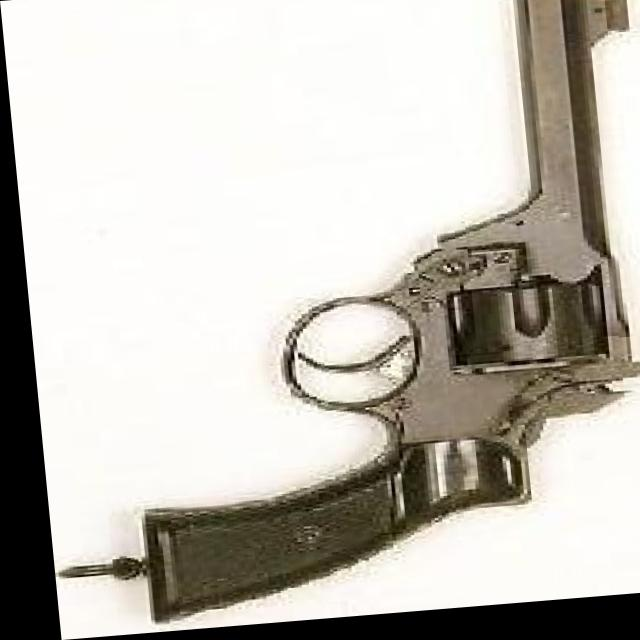handgun: (97, 0, 640, 627)
